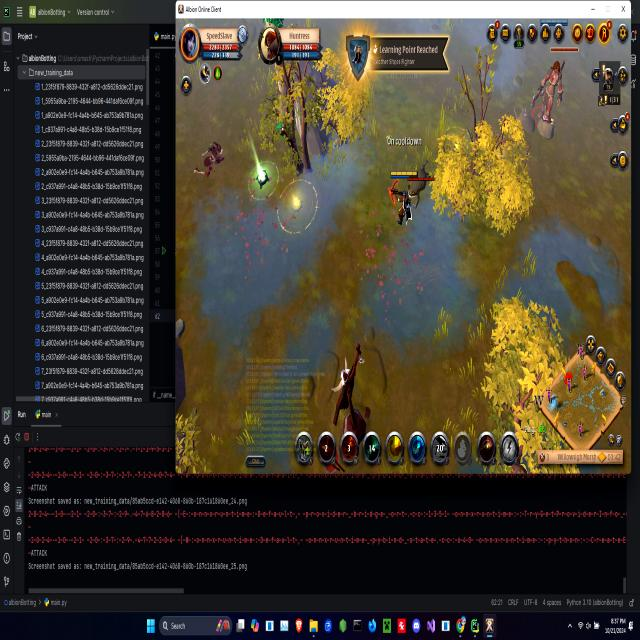ore: (529, 45, 581, 141), (407, 154, 437, 204)
red: (389, 170, 419, 232), (542, 20, 570, 25)
wisp caged: (262, 12, 294, 116)
